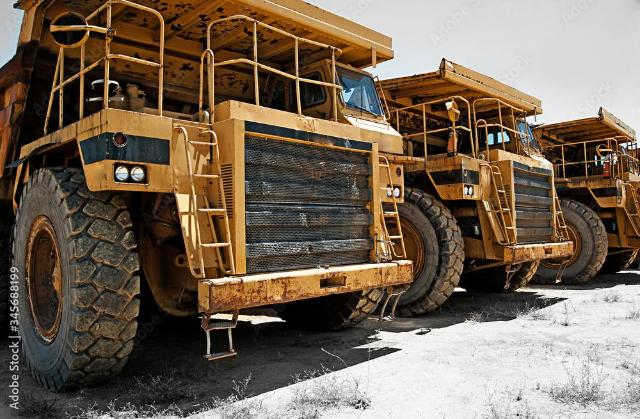truck: (0, 0, 428, 389), (389, 55, 572, 324)
